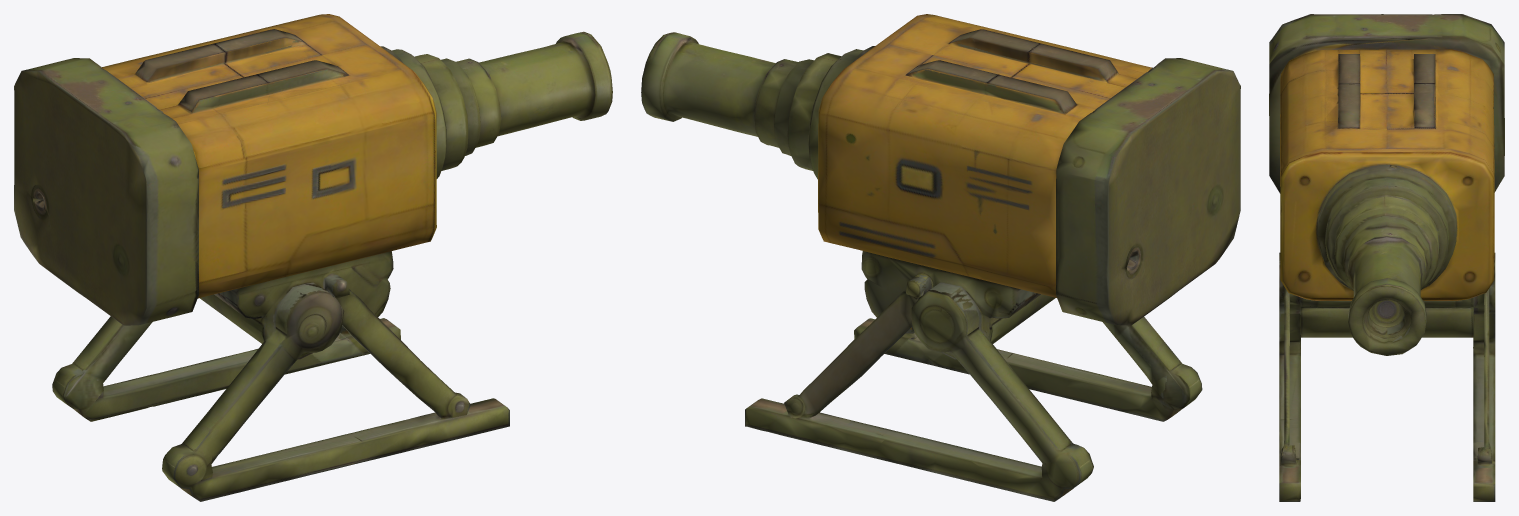
The model's file is Steampunk_Sentinel_0404141424_texture.glb.
3 renders of one model, left to right at view 1: azimuth 30°, elevation 25°; view 2: azimuth 150°, elevation 25°; view 3: azimuth 270°, elevation 25°, orthographic. The views are drawn at different scales.
Size of the model in its own units: 2 by 1.38 by 0.8999.
Materials: 1 (1 with a texture image).
